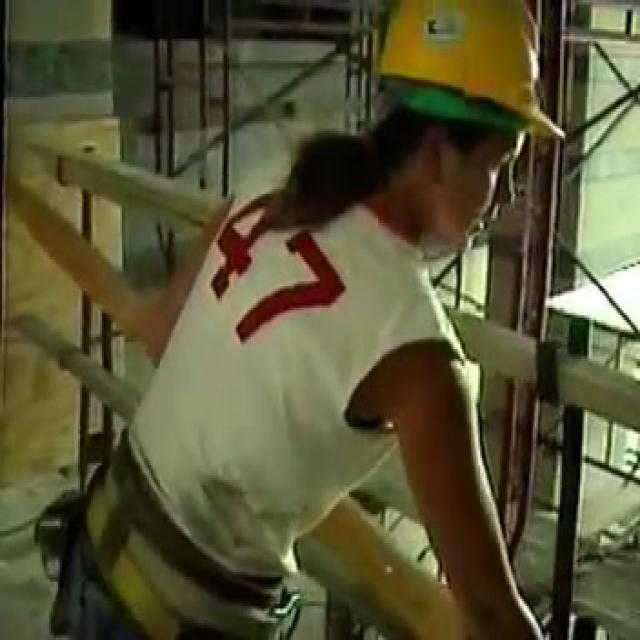Safety-Helmet: (355, 0, 569, 153)
